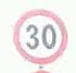limite 30: (10, 9, 69, 65)
